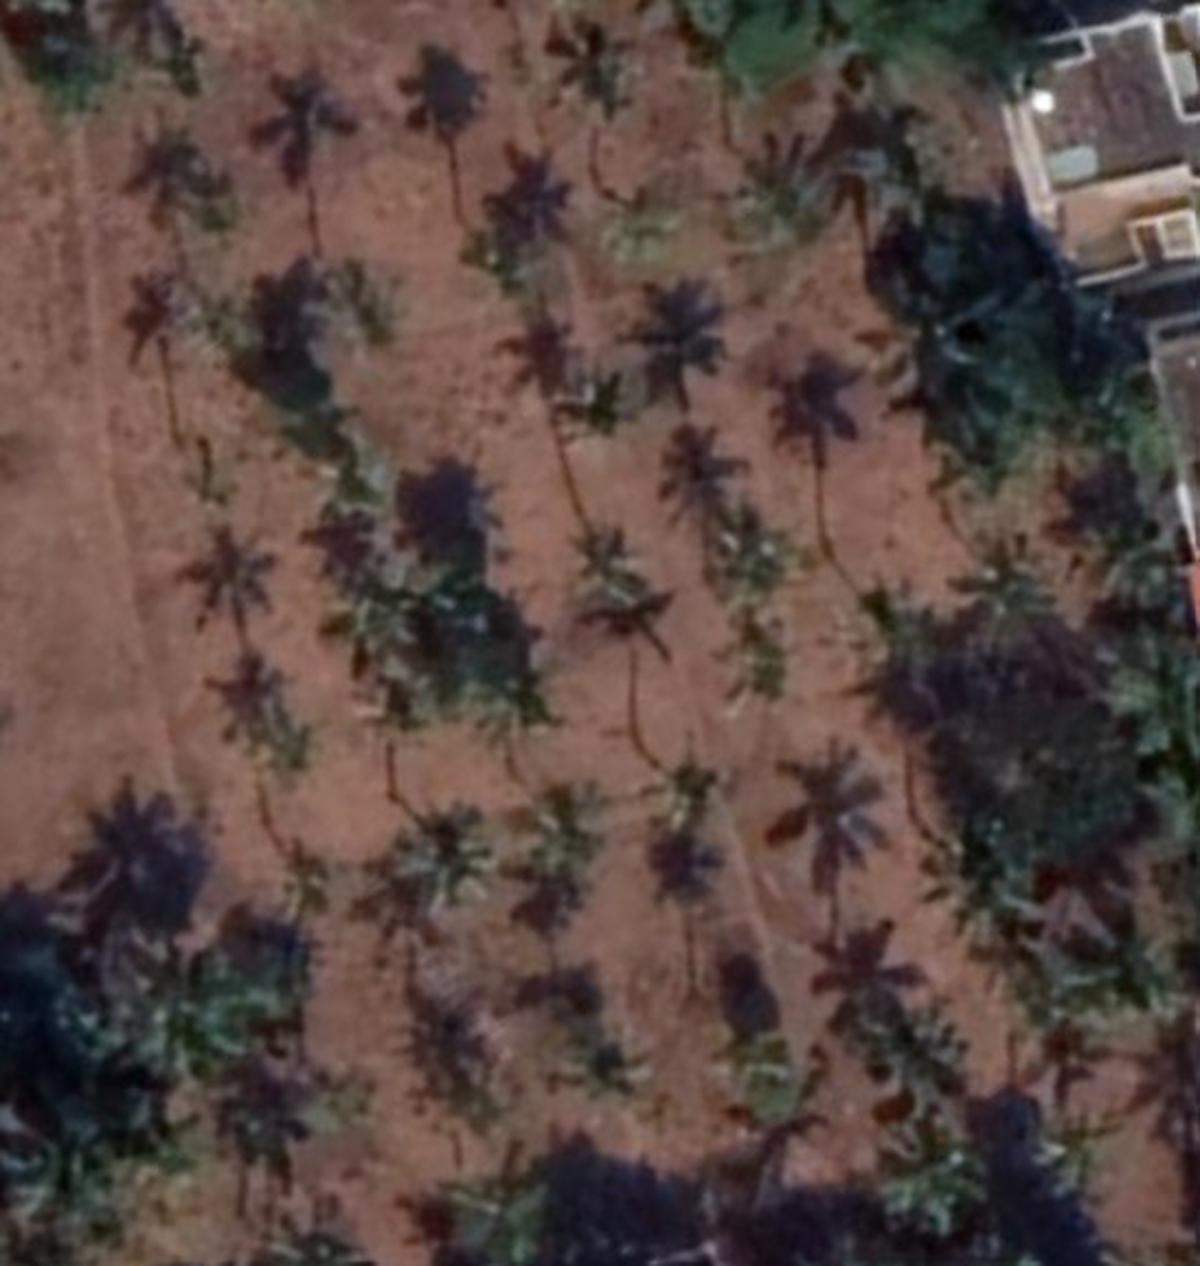coconut: (394, 778, 515, 910), (866, 283, 995, 401), (127, 963, 261, 1072), (870, 1105, 1006, 1206), (127, 289, 272, 377), (557, 37, 673, 144), (932, 829, 1036, 947), (1061, 936, 1171, 1046), (727, 138, 833, 244), (460, 200, 555, 313), (513, 776, 609, 886), (623, 743, 723, 842), (326, 262, 432, 346), (864, 989, 958, 1079), (559, 364, 655, 451), (712, 618, 796, 715), (708, 520, 798, 607), (702, 1013, 798, 1090), (559, 1026, 658, 1099), (590, 188, 680, 267), (177, 179, 258, 263), (568, 524, 639, 605), (247, 697, 323, 770)
